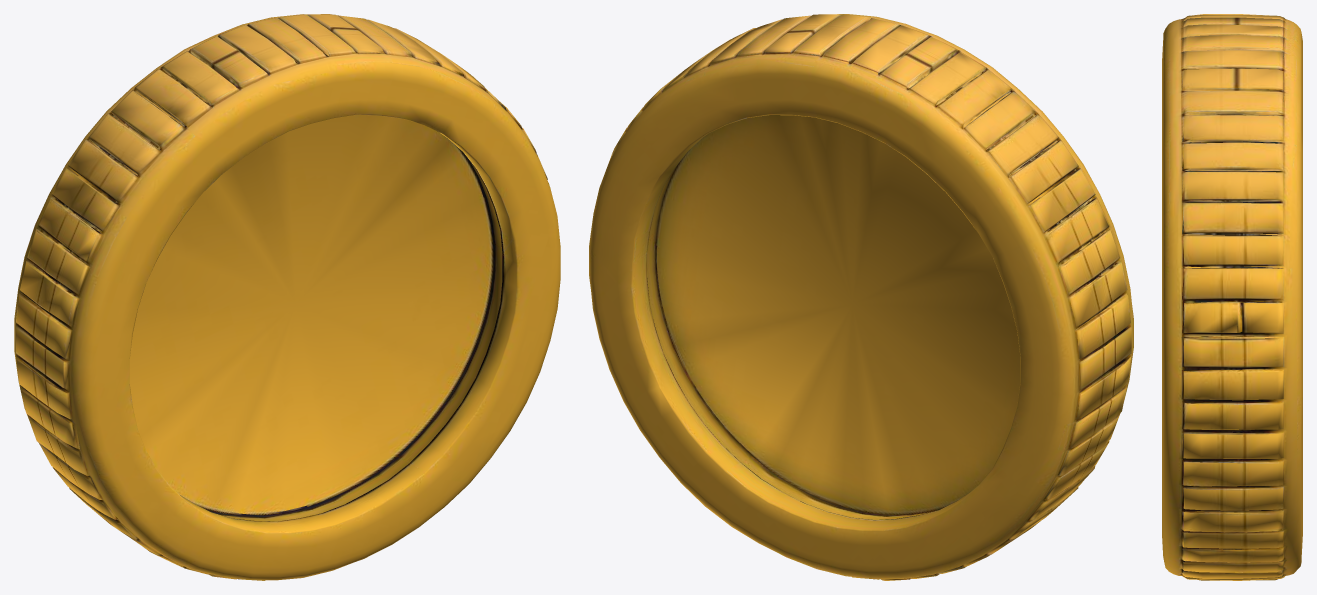
Rendered from gold-ld.glb.
The picture shows the model from 3 angles, left to right: view 1: azimuth 30°, elevation 25°; view 2: azimuth 150°, elevation 25°; view 3: azimuth 270°, elevation 25°; orthographic projection.
Size of the model in its own units: 1.9 by 1.91 by 0.4736.
1 material, 1 textured.
